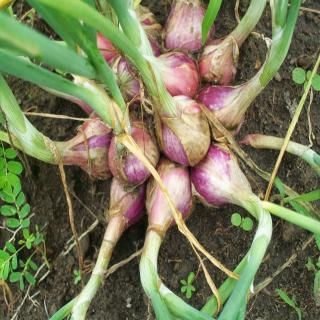Bawang Merah: (2, 1, 312, 320)
